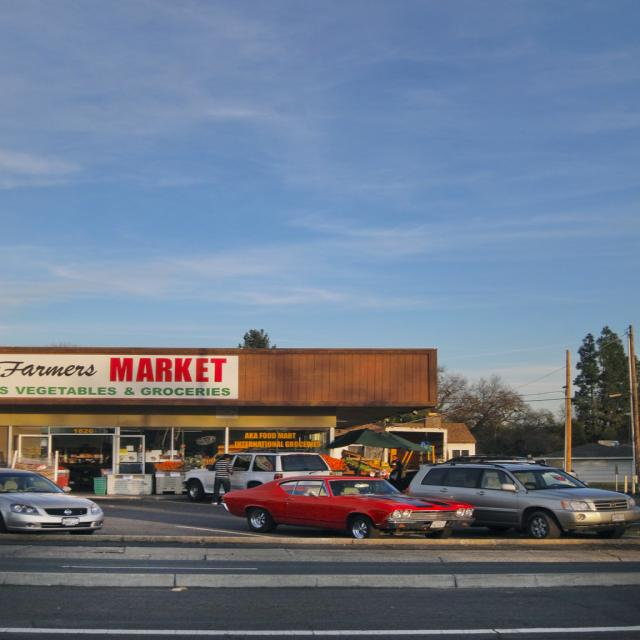car: (402, 454, 638, 538), (223, 470, 460, 536), (177, 444, 338, 505), (0, 464, 112, 538)
